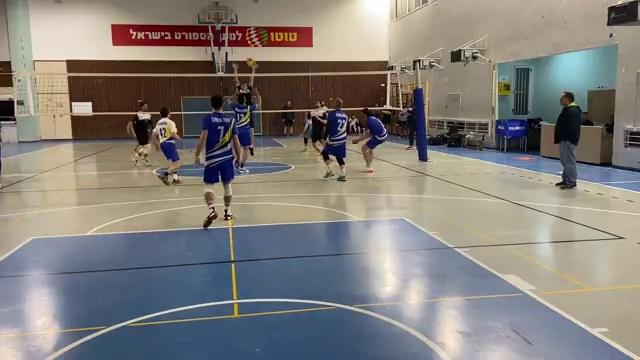ball: (246, 54, 256, 68)
